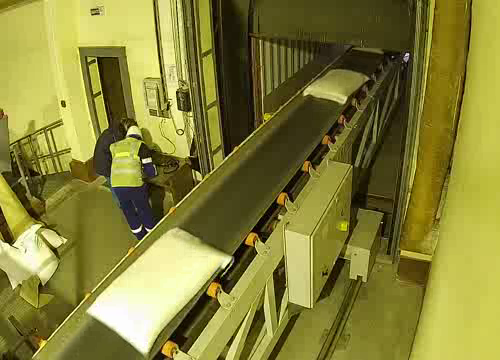bag: (80, 223, 238, 360), (301, 66, 372, 107), (350, 44, 387, 56)
